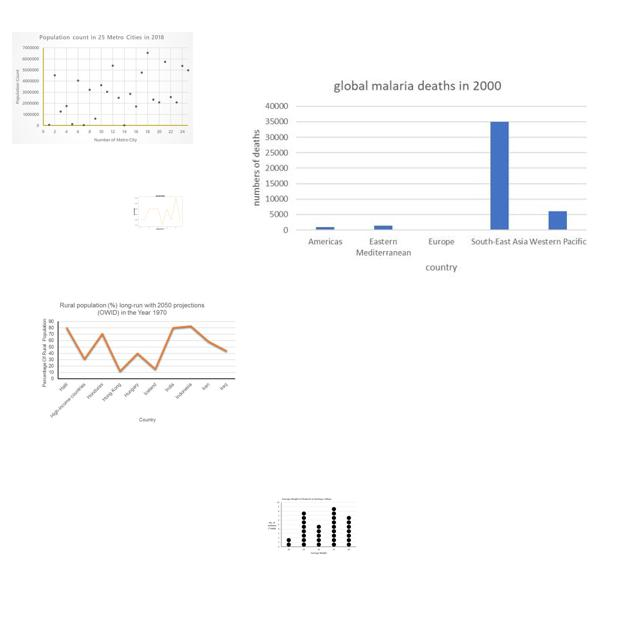Graph: (239, 73, 597, 282), (37, 299, 237, 425), (12, 32, 193, 144), (265, 496, 358, 557), (131, 192, 188, 231)
